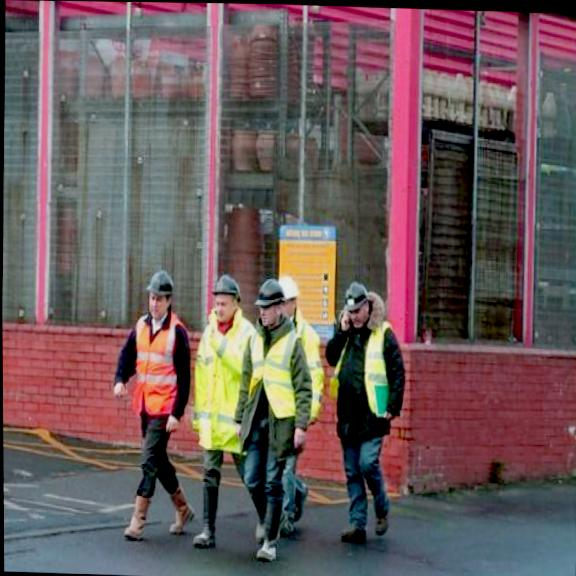safety_vest: (189, 305, 264, 453), (327, 313, 400, 421), (129, 309, 186, 420), (247, 321, 303, 420), (285, 307, 323, 425)
